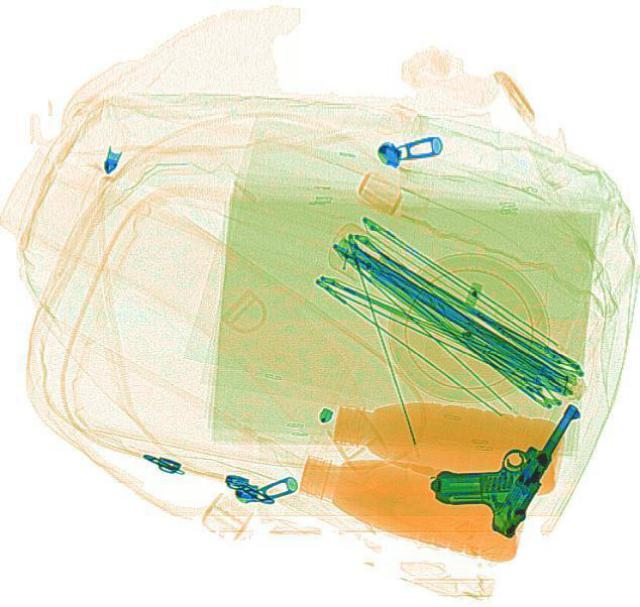Gun: (417, 368, 583, 539)
